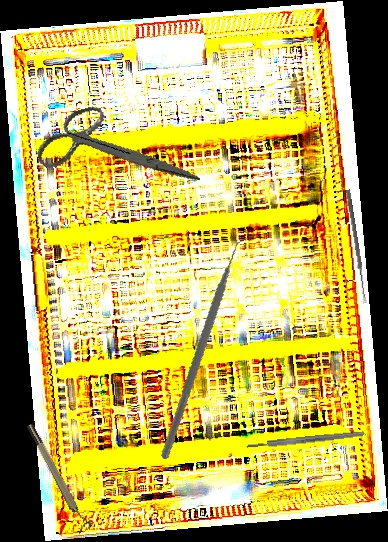Chopper: (117, 233, 302, 460)
Fixation Ring: (24, 419, 94, 535)
Iris Scissors: (29, 83, 200, 221)
Scalpel Handle: (245, 430, 366, 450)
Surgical Spoon: (345, 189, 368, 304)
